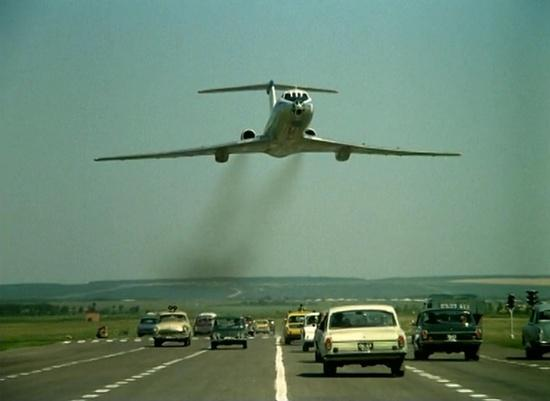car: (315, 304, 409, 377), (409, 308, 484, 363), (300, 311, 347, 352), (153, 304, 193, 347), (520, 302, 550, 358), (209, 312, 249, 348), (284, 310, 320, 344), (136, 312, 162, 338), (193, 311, 220, 336), (232, 314, 257, 336), (255, 319, 270, 333)
